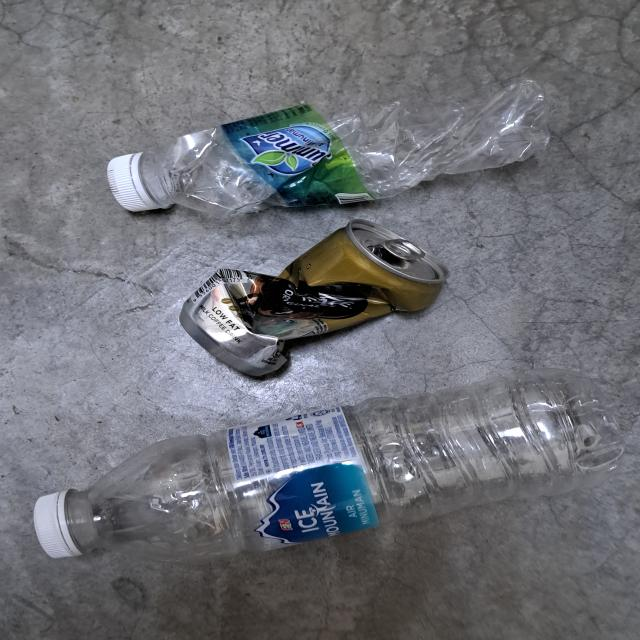can: (178, 219, 448, 382)
plastic bottle: (78, 374, 625, 560), (155, 72, 557, 216)
plastic bottle cap: (106, 151, 162, 214), (33, 488, 82, 559)
pop tab: (381, 238, 426, 261)
